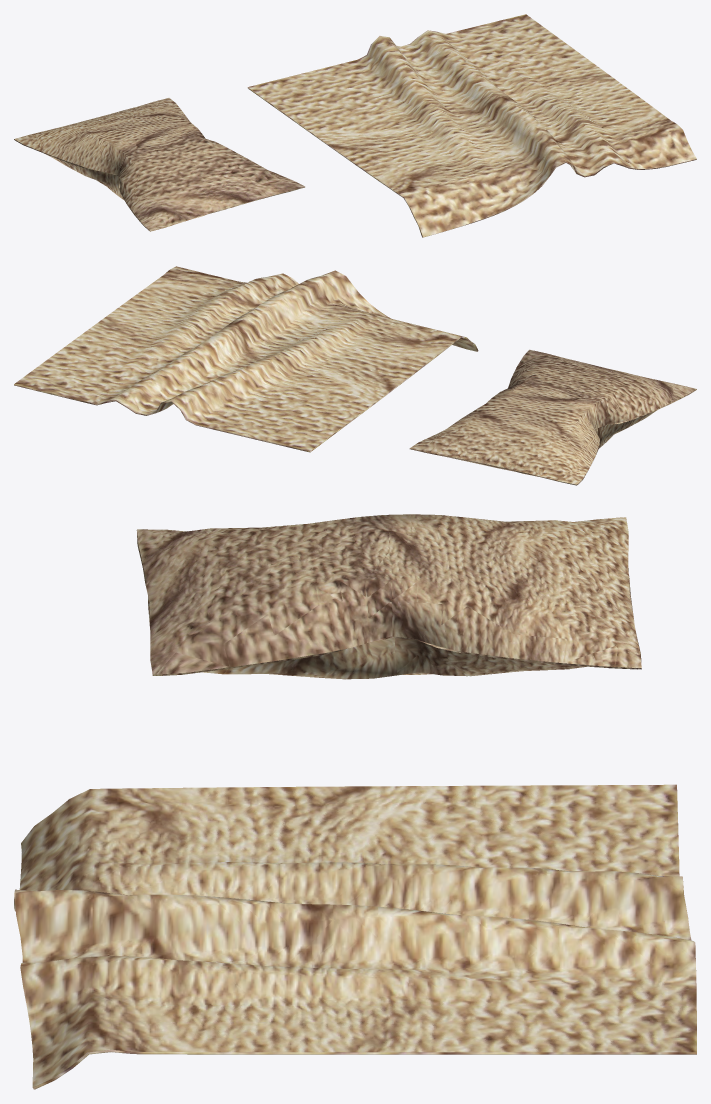
The model's file is almandcobi.obj.
3 renders of one model, top to bottom at view 1: azimuth 30°, elevation 25°; view 2: azimuth 150°, elevation 25°; view 3: azimuth 270°, elevation 25°, orthographic. The views are drawn at different scales.
Parts seen in each view (by area): view 1: pasted__polySurface57 group; view 2: pasted__polySurface57 group; view 3: pasted__polySurface57 group.
Part boxes in pixels (x1,y1,x2,y2): pasted__polySurface57 group: (14, 14, 696, 237); pasted__polySurface57 group: (14, 266, 696, 485); pasted__polySurface57 group: (14, 514, 696, 1089).
Size of the model in its own units: 260 by 32.8 by 150.
1 material, 1 textured.
